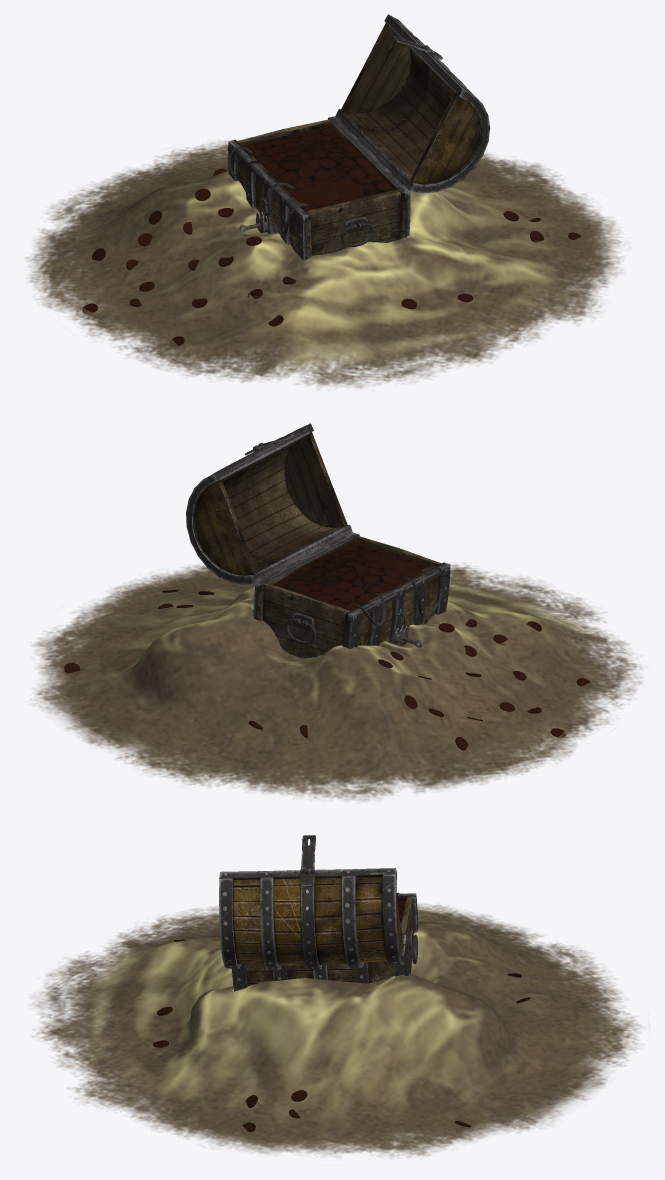
3 renders of one model, top to bottom at view 1: azimuth 30°, elevation 25°; view 2: azimuth 150°, elevation 25°; view 3: azimuth 270°, elevation 25°, orthographic. The views are drawn at different scales.
Visible parts, largest first — view 1: sand, casket, coins; view 2: sand, casket, coins; view 3: sand, casket, coins.
Part boxes in pixels (left/top/right/bottom): sand: left=26, top=141, right=622, bottom=388; casket: left=228, top=14, right=490, bottom=260; coins: left=82, top=125, right=581, bottom=345; sand: left=32, top=564, right=642, bottom=801; casket: left=186, top=423, right=450, bottom=657; coins: left=64, top=541, right=590, bottom=750; sand: left=31, top=903, right=640, bottom=1157; casket: left=219, top=835, right=418, bottom=991; coins: left=153, top=892, right=530, bottom=1132.
Bounding box in the file's own units: 1564 × 598 × 1554.
Materials: 3 (3 with a texture image).
